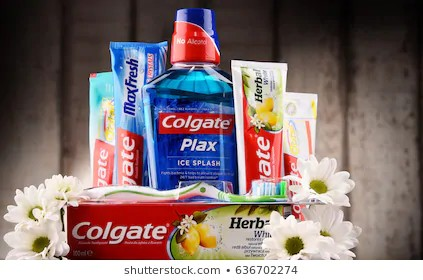colgate-Plax: (148, 6, 237, 188)
colgate-medium: (62, 205, 290, 260)
lays-small: (90, 68, 188, 187)
toothbrush: (61, 176, 290, 207)
